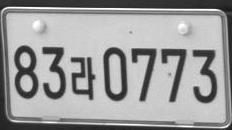0: (102, 46, 128, 102)
3: (41, 45, 67, 100), (191, 48, 217, 103)
7: (130, 47, 157, 102), (160, 47, 187, 102)
8: (13, 44, 38, 100)
라: (70, 56, 96, 101)
